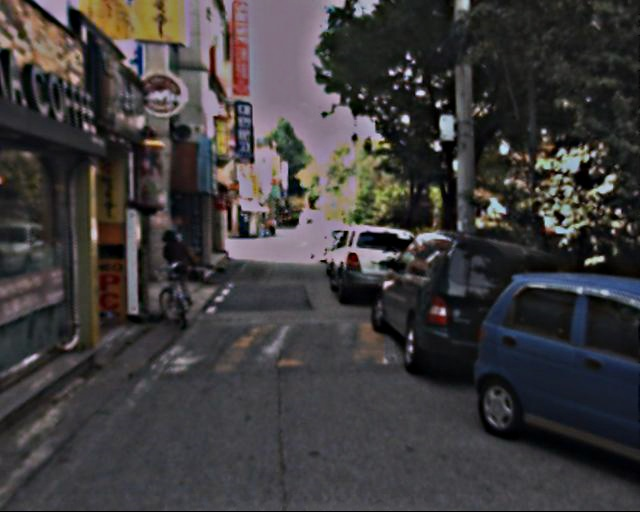person: (156, 225, 194, 307)
